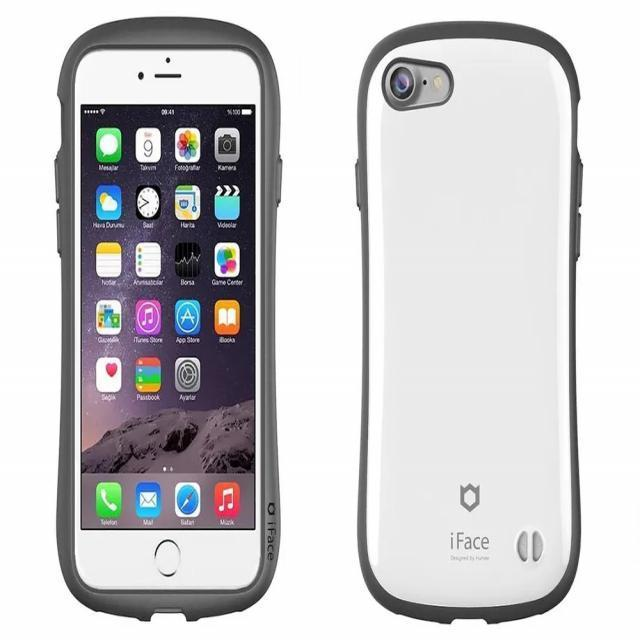phone: (49, 12, 282, 630), (355, 20, 583, 625)
